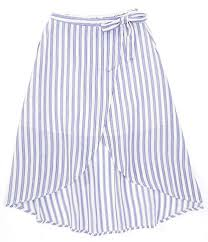C_skirt: (4, 5, 207, 237)
